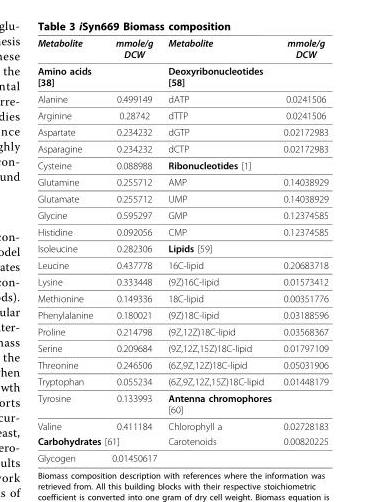table: (36, 36, 327, 463)
table column: (161, 36, 276, 463), (36, 36, 101, 463), (101, 36, 161, 463), (276, 36, 327, 463)
table column header: (36, 36, 327, 62)
table row: (36, 62, 327, 90), (36, 389, 327, 417), (36, 36, 327, 62), (36, 106, 327, 123), (36, 123, 327, 140), (36, 156, 327, 173), (36, 173, 327, 190), (36, 206, 327, 223), (36, 239, 327, 256), (36, 256, 327, 273), (36, 289, 327, 306), (36, 306, 327, 323), (36, 339, 327, 356), (36, 372, 327, 389), (36, 90, 327, 106), (36, 140, 327, 156), (36, 190, 327, 206), (36, 223, 327, 239), (36, 273, 327, 289), (36, 323, 327, 339), (36, 356, 327, 372), (36, 417, 327, 433), (36, 433, 327, 449), (36, 449, 327, 463)
table spanning cell: (36, 433, 161, 449)
